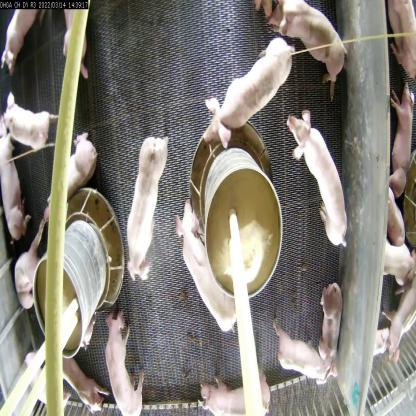Pig: (202, 33, 297, 145), (283, 108, 347, 252), (179, 202, 242, 334), (269, 0, 344, 99), (122, 137, 173, 282), (266, 319, 335, 394), (43, 141, 106, 206), (107, 316, 147, 415), (0, 105, 28, 239), (200, 372, 283, 415), (3, 90, 58, 154), (5, 247, 48, 316), (316, 284, 344, 373)
